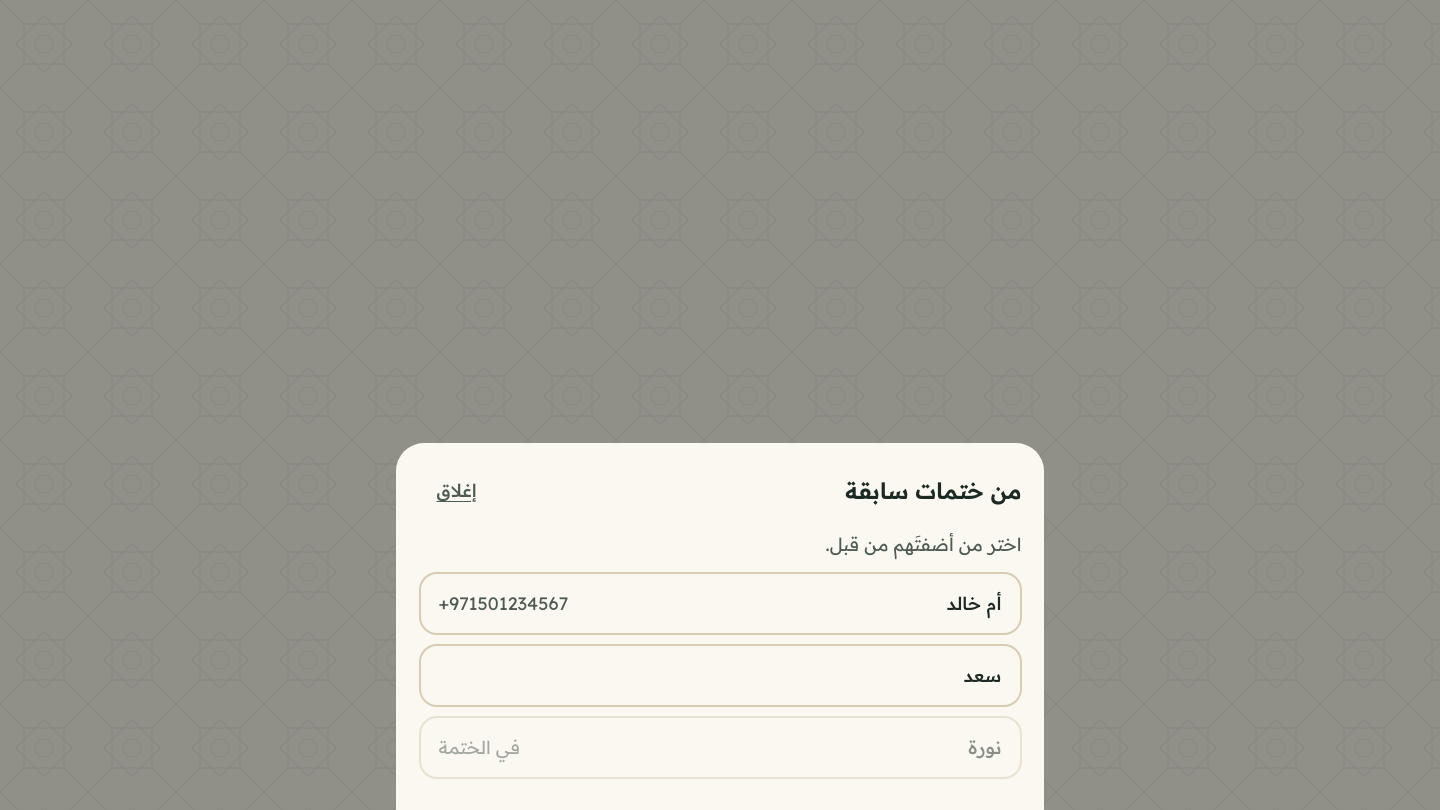
Test case: SavedPicker › a refusal (already_added) is said plainly and keeps the sheet open
Step 1. Click the button "أم خالد +971501234567" → click(974, 603), box [418, 572, 1022, 634]
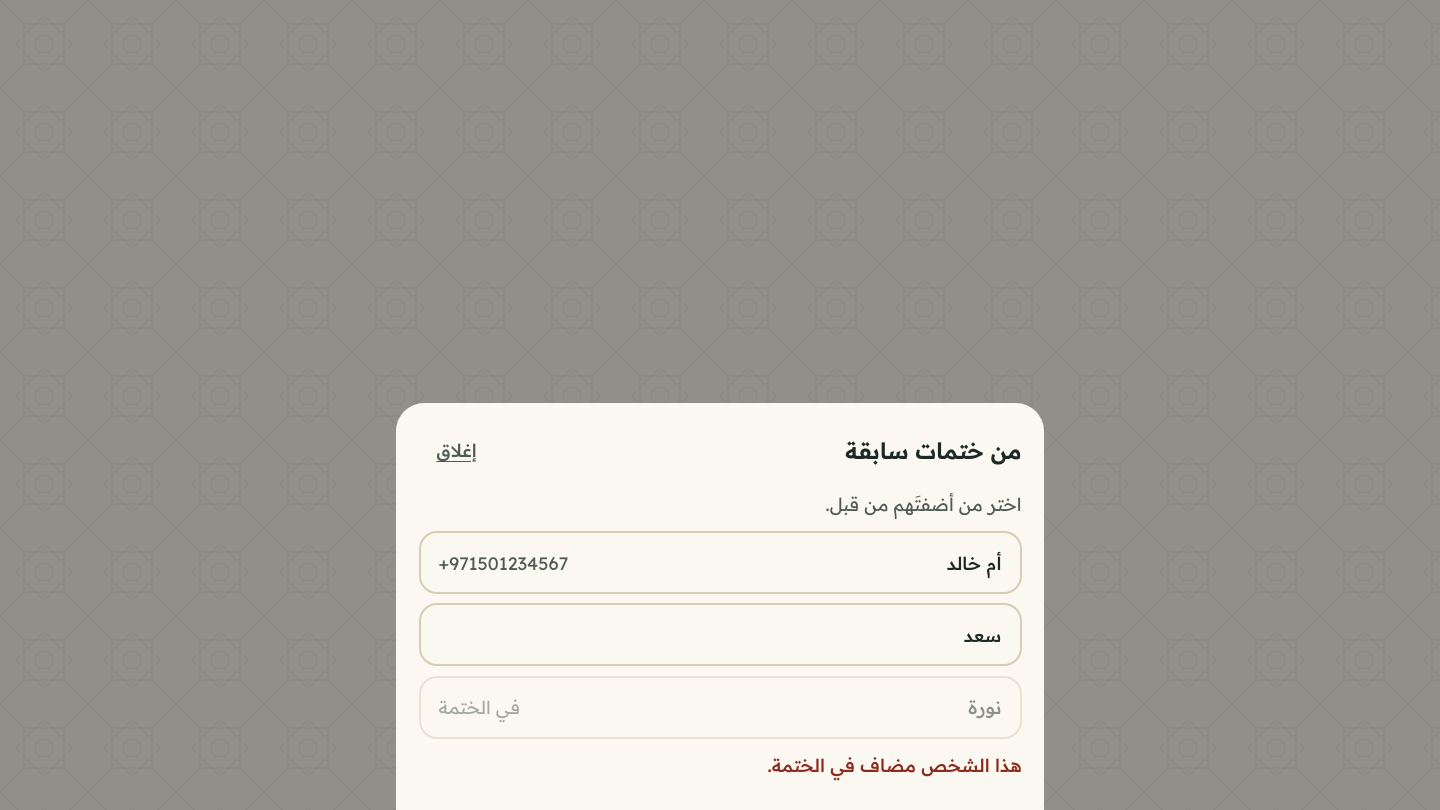
Expected: the message reads "هذا الشخص مضاف في الختمة.", [768, 754, 1022, 776]
